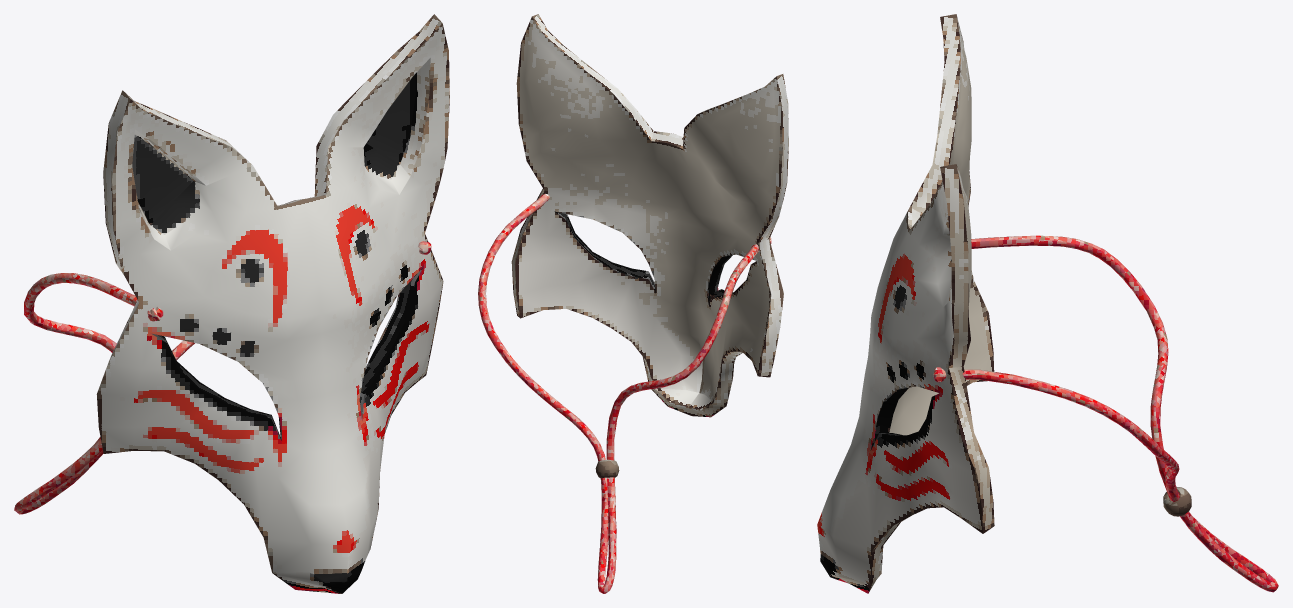
The model's file is wear_kitsune.glb.
3 views of the same model, side by side, from view 1: azimuth 30°, elevation 25°; view 2: azimuth 150°, elevation 25°; view 3: azimuth 270°, elevation 25° (orthographic). The views are drawn at different scales.
Visible parts, largest first — view 1: mesh; view 2: mesh; view 3: mesh.
Boxes of the visible parts, x1,y1,x2,y2 form: mesh: [14, 14, 449, 593]; mesh: [478, 14, 788, 593]; mesh: [817, 14, 1278, 593].
Size of the model in its own units: 0.1417 by 0.22 by 0.1678.
1 material, 1 textured.
